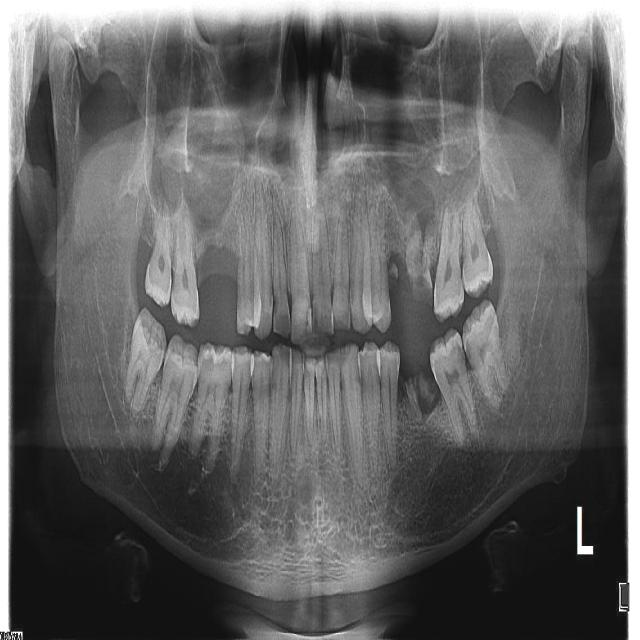Caries: (203, 354, 228, 373), (457, 336, 467, 373), (462, 337, 474, 363), (274, 294, 280, 318)
Filling: (306, 304, 312, 338)
Missing teeth: (201, 298, 238, 310)
Periapical lesion: (405, 182, 438, 246), (417, 375, 442, 418)
Root Piece: (405, 208, 432, 306), (418, 212, 440, 297), (403, 376, 423, 422), (420, 375, 436, 402)
